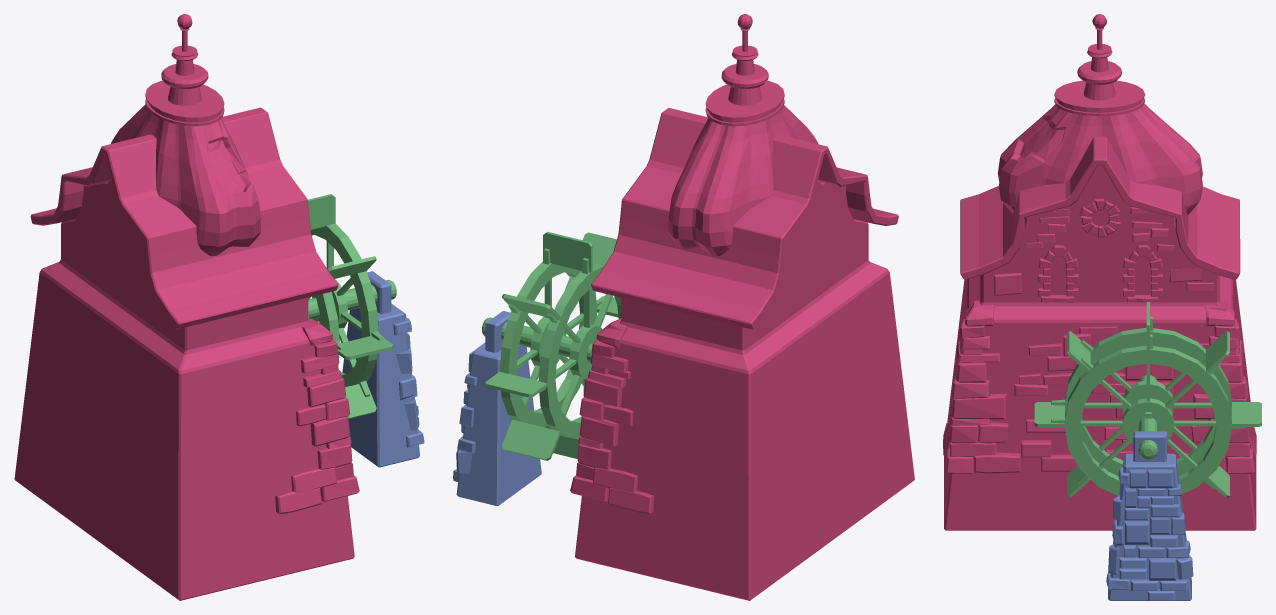
Rendered from full_6_coarse.glb.
The picture shows the model from 3 angles, left to right: view 1: azimuth 30°, elevation 25°; view 2: azimuth 150°, elevation 25°; view 3: azimuth 270°, elevation 25°; orthographic projection. The views are drawn at different scales.
Parts seen in each view (by area): view 1: world; view 2: world; view 3: world.
Boxes of the visible parts, x1,y1,x2,y2 form: world: [14, 14, 424, 600]; world: [453, 14, 914, 600]; world: [943, 14, 1261, 600].
Bounding box in the file's own units: 0.5106 × 0.7351 × 0.446.
